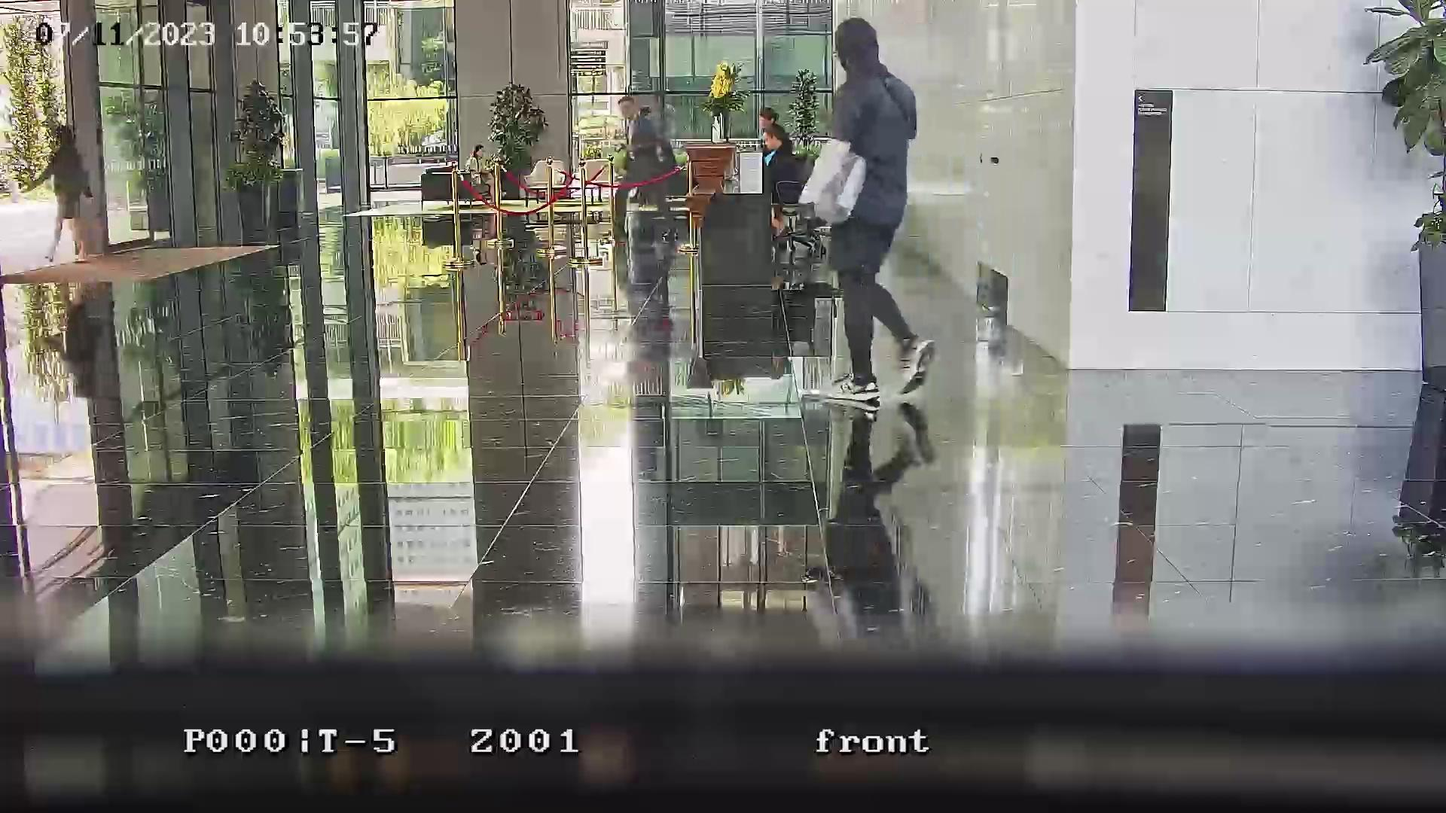person: (819, 17, 935, 400), (612, 91, 688, 244), (24, 125, 95, 264), (758, 124, 804, 206), (465, 142, 509, 206), (756, 105, 780, 133)
